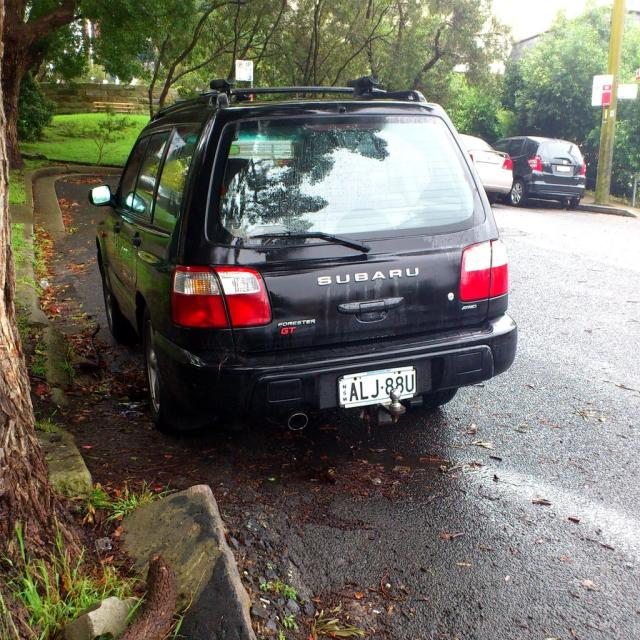car: (101, 81, 512, 440)
